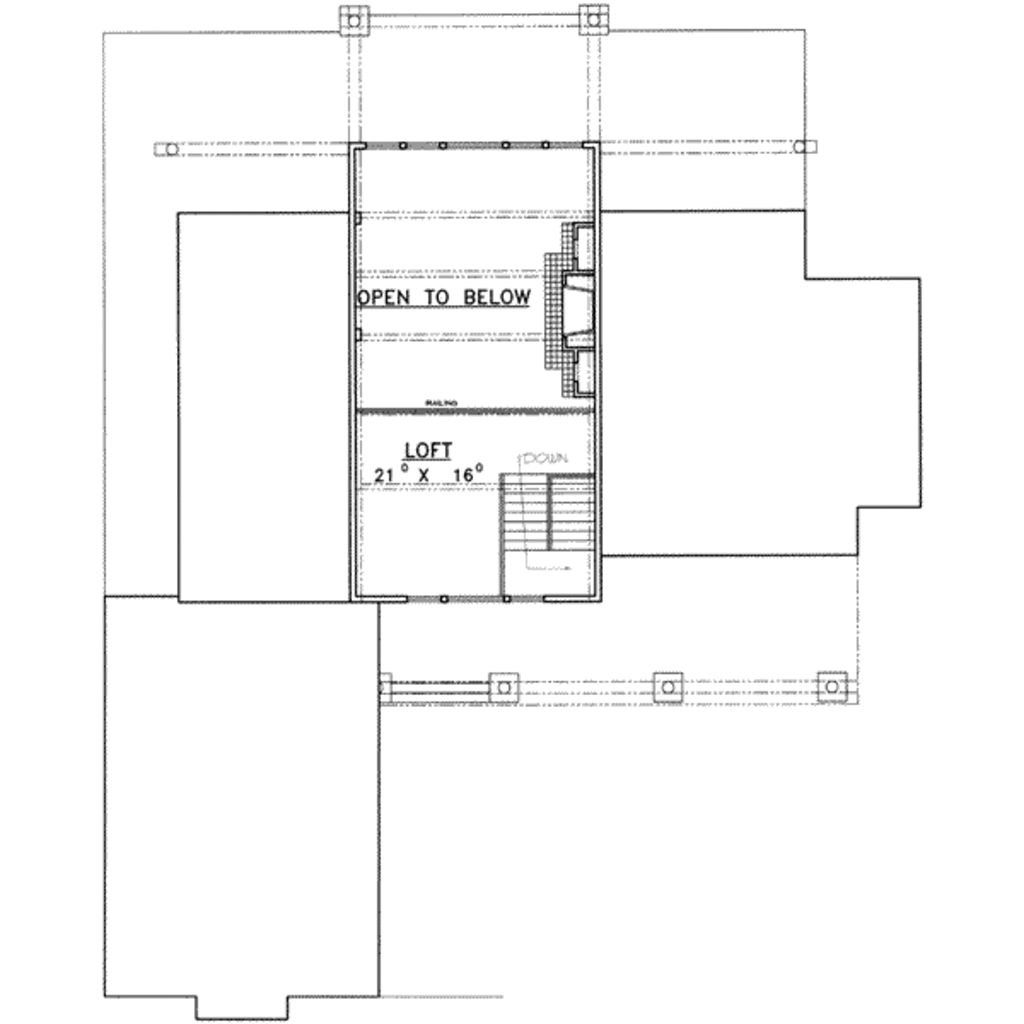stairs: (494, 467, 600, 605)
